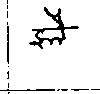ai_matra: (43, 6, 67, 28)
